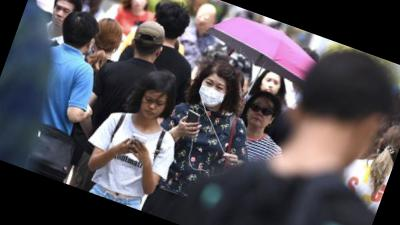with_mask: (193, 75, 230, 113)
without_mask: (243, 99, 276, 132), (136, 91, 168, 124), (47, 1, 74, 31), (259, 74, 285, 98)
